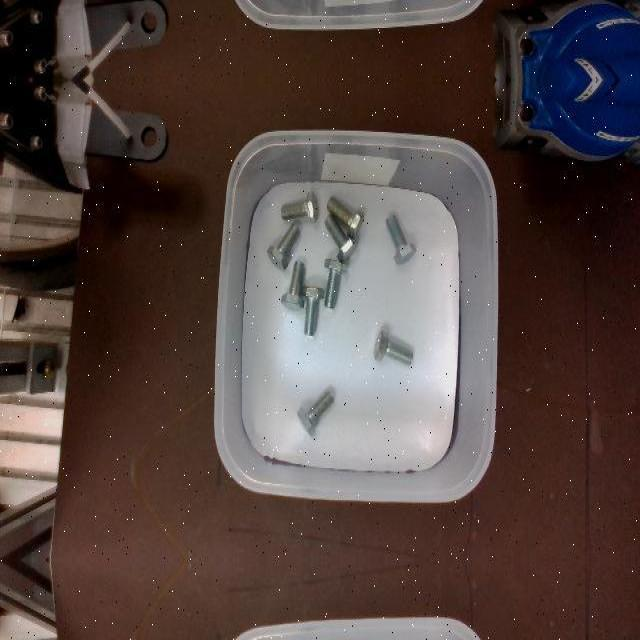screw: (296, 391, 334, 437), (324, 213, 357, 263), (266, 223, 300, 271), (327, 195, 364, 237), (385, 213, 416, 263), (373, 328, 413, 366), (280, 191, 318, 223), (300, 285, 324, 335), (280, 259, 304, 309), (324, 259, 347, 307)
